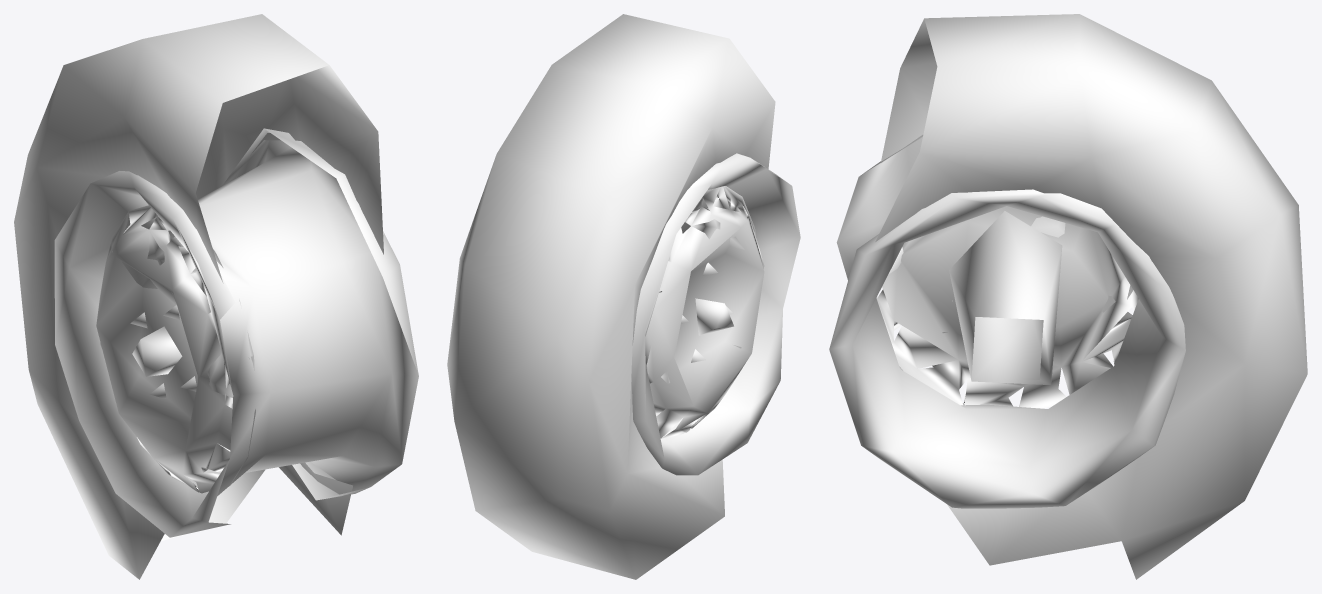
The picture shows the model from 3 angles, left to right: view 1: azimuth 30°, elevation 25°; view 2: azimuth 150°, elevation 25°; view 3: azimuth 270°, elevation 25°; orthographic projection. The views are drawn at different scales.
Bounding box in the file's own units: 0.2634 × 0.5932 × 0.4982.
1 material, 1 textured.
